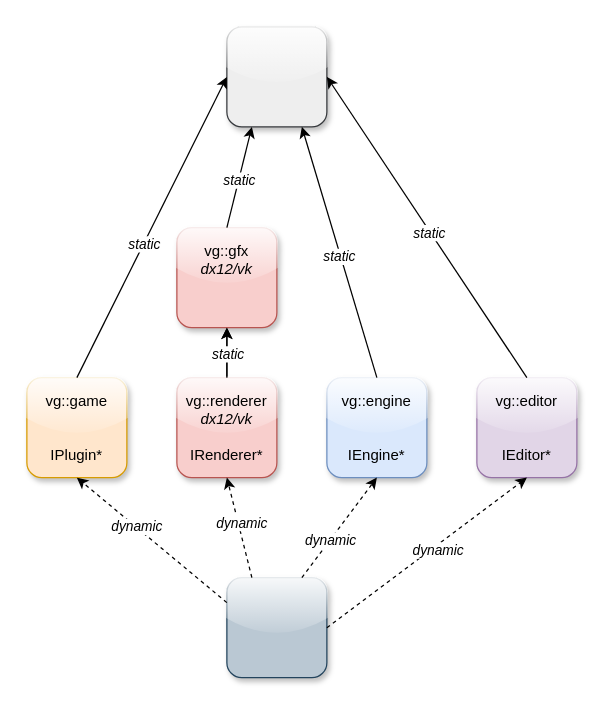
Some shapes in this 606 by 709 pixel diagram are drawn without their labels. The centre of each missing label's shape, as x and y in pixels:
"vg::application" goes at point (277, 628).
"vg::core" goes at point (277, 78).
